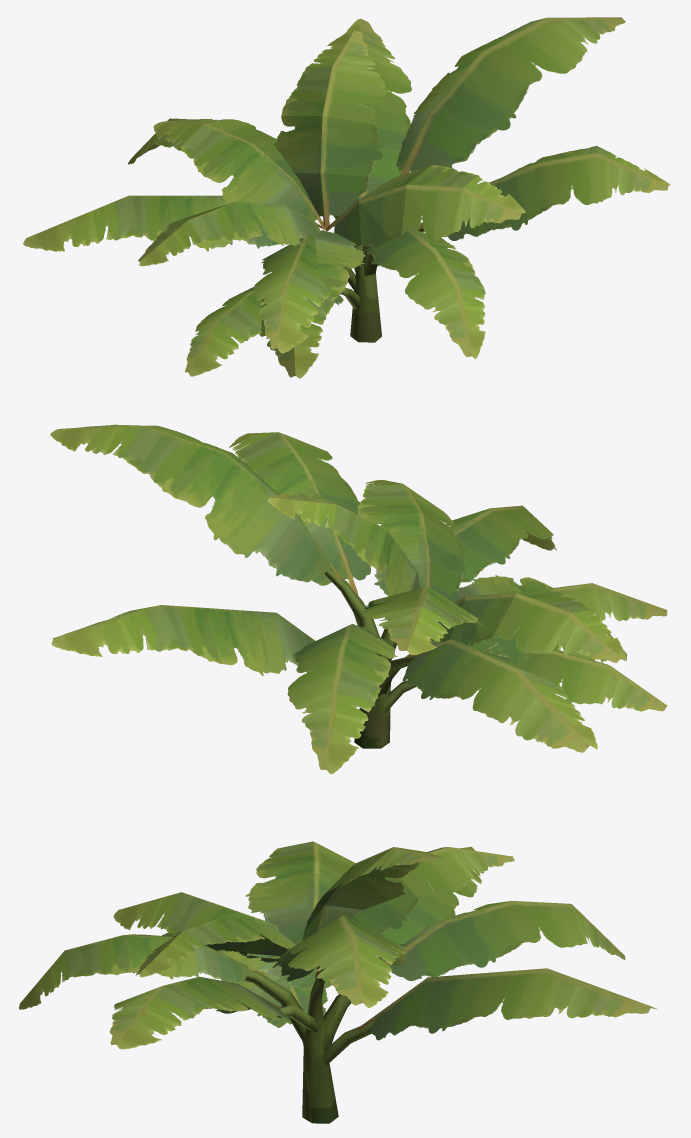
File: M_guanmu01.FBX
3 renders of one model, top to bottom at view 1: azimuth 30°, elevation 25°; view 2: azimuth 150°, elevation 25°; view 3: azimuth 270°, elevation 25°, orthographic. The views are drawn at different scales.
Parts seen in each view (by area): view 1: M_guanmu01; view 2: M_guanmu01; view 3: M_guanmu01.
Part boxes in pixels (<box>): M_guanmu01: <box>23,17,670,378</box>; M_guanmu01: <box>50,424,668,774</box>; M_guanmu01: <box>19,841,657,1123</box>.
Bounding box in the file's own units: 5.88 × 2.54 × 5.39.
